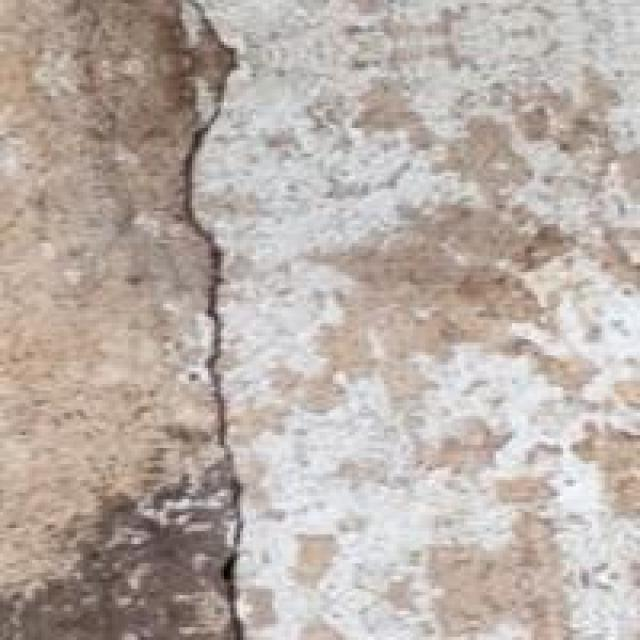Crack: (128, 0, 288, 637)
